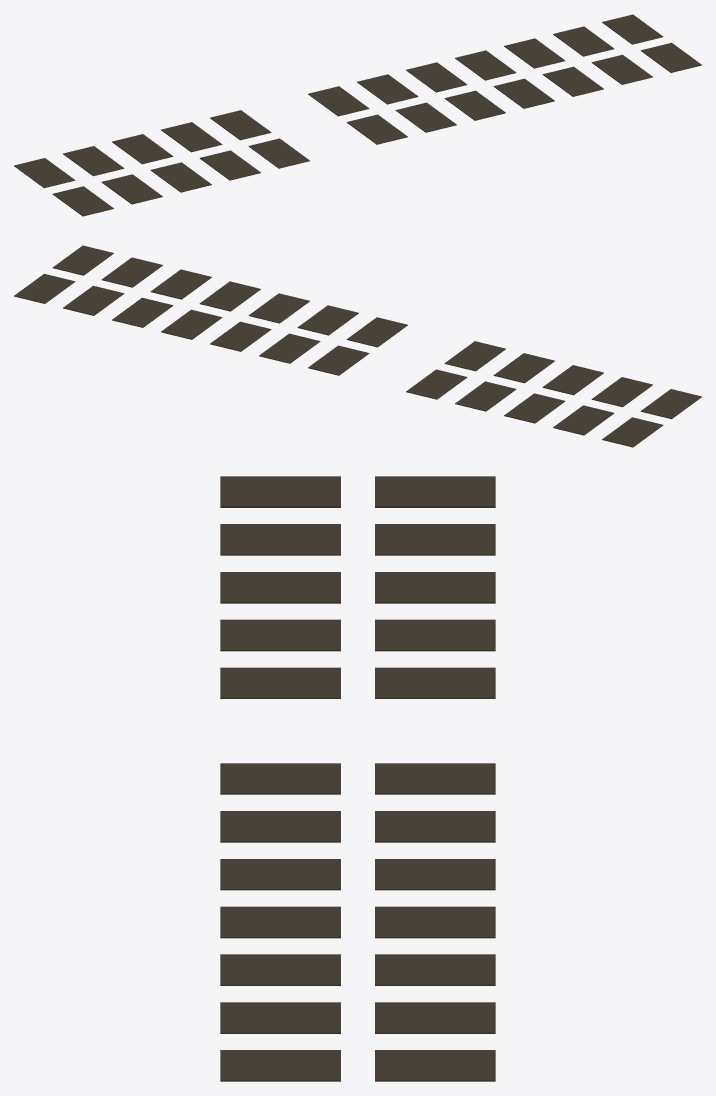
Rendered from recess.obj.
The picture shows the model from 3 angles, top to bottom: view 1: azimuth 30°, elevation 25°; view 2: azimuth 150°, elevation 25°; view 3: azimuth 270°, elevation 25°; orthographic projection. The views are drawn at different scales.
Parts seen in each view (by area): view 1: geometry; view 2: geometry; view 3: geometry.
Boxes of the visible parts, x1,y1,x2,y2 form: geometry: [14, 14, 701, 216]; geometry: [14, 245, 701, 447]; geometry: [220, 476, 495, 1081].
Bounding box in the file's own units: 37.9 × 0.04 × 7.3.
